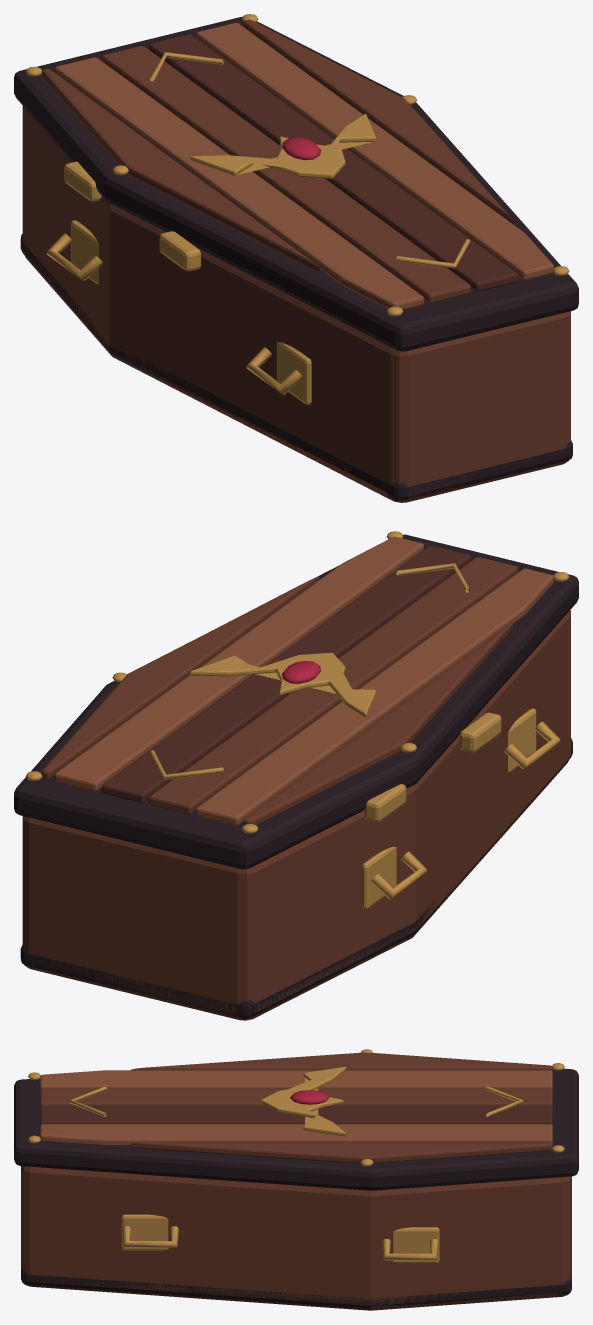
File: SkillCoffin.fbx
The picture shows the model from 3 angles, top to bottom: view 1: azimuth 30°, elevation 25°; view 2: azimuth 150°, elevation 25°; view 3: azimuth 270°, elevation 25°; orthographic projection. The views are drawn at different scales.
Visible parts, largest first — view 1: Body_CoffinWood, Lid_CoffinWood, Lid_CoffinPlankLight, Lid_CoffinTrim, Lid_CoffinPlankDark, Body_CoffinTrim, Body_CoffinBrass, Lid_CoffinBrass, Lid_CoffinGem; view 2: Body_CoffinWood, Lid_CoffinWood, Lid_CoffinPlankLight, Lid_CoffinTrim, Lid_CoffinPlankDark, Body_CoffinBrass, Body_CoffinTrim, Lid_CoffinBrass, Lid_CoffinGem; view 3: Body_CoffinWood, Lid_CoffinWood, Lid_CoffinTrim, Lid_CoffinPlankLight, Lid_CoffinPlankDark, Body_CoffinTrim, Body_CoffinBrass, Lid_CoffinBrass, Lid_CoffinGem.
Part boxes in pixels (box(x1,y1,x2,y2)): Body_CoffinWood: box(22, 106, 570, 502); Lid_CoffinWood: box(42, 19, 512, 303); Lid_CoffinPlankLight: box(55, 22, 553, 309); Lid_CoffinTrim: box(14, 16, 578, 351); Lid_CoffinPlankDark: box(149, 34, 518, 291); Body_CoffinTrim: box(20, 234, 572, 500); Body_CoffinBrass: box(47, 161, 311, 404); Lid_CoffinBrass: box(25, 14, 569, 316); Lid_CoffinGem: box(282, 137, 320, 160); Body_CoffinWood: box(22, 610, 570, 1020); Lid_CoffinWood: box(42, 557, 518, 825); Lid_CoffinPlankLight: box(55, 536, 553, 825); Lid_CoffinTrim: box(14, 534, 578, 869); Lid_CoffinPlankDark: box(102, 545, 470, 802); Body_CoffinBrass: box(362, 708, 560, 909); Body_CoffinTrim: box(20, 738, 572, 1018); Lid_CoffinBrass: box(26, 531, 569, 833); Lid_CoffinGem: box(282, 661, 320, 683); Body_CoffinWood: box(21, 1166, 571, 1310); Lid_CoffinWood: box(40, 1052, 552, 1163); Lid_CoffinTrim: box(14, 1068, 578, 1190); Lid_CoffinPlankLight: box(40, 1070, 552, 1145); Lid_CoffinPlankDark: box(40, 1106, 552, 1124); Body_CoffinTrim: box(21, 1269, 571, 1308); Body_CoffinBrass: box(121, 1214, 439, 1263); Lid_CoffinBrass: box(28, 1049, 564, 1166); Lid_CoffinGem: box(290, 1090, 329, 1104).
Size of the model in its own units: 118 by 68 by 213.
